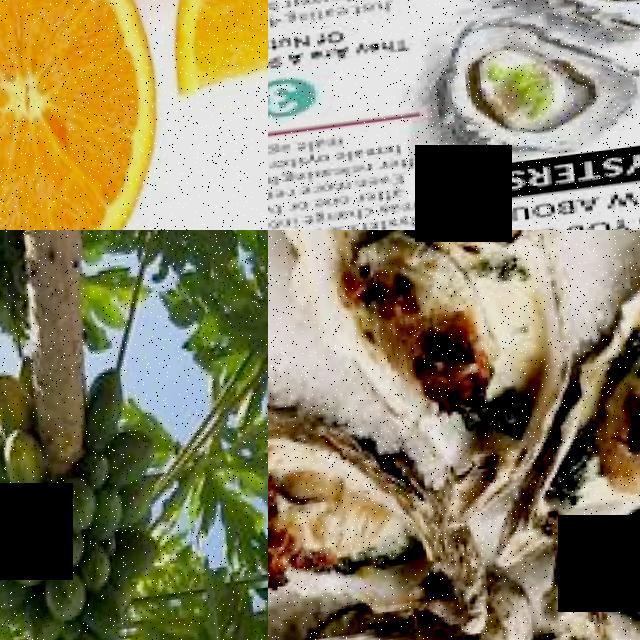orange: (0, 0, 177, 230), (154, 0, 268, 109)
oysters: (275, 230, 556, 475), (268, 416, 470, 635), (510, 240, 640, 552), (412, 19, 629, 177), (536, 504, 640, 640)
pawpaw: (80, 368, 131, 453), (0, 430, 45, 503), (3, 524, 47, 594), (50, 477, 96, 535), (40, 573, 87, 626), (0, 371, 35, 441)
